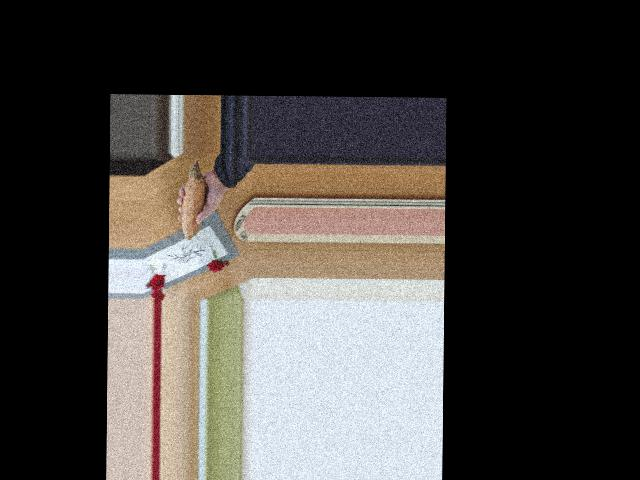sweet_potato: (178, 165, 212, 242)
